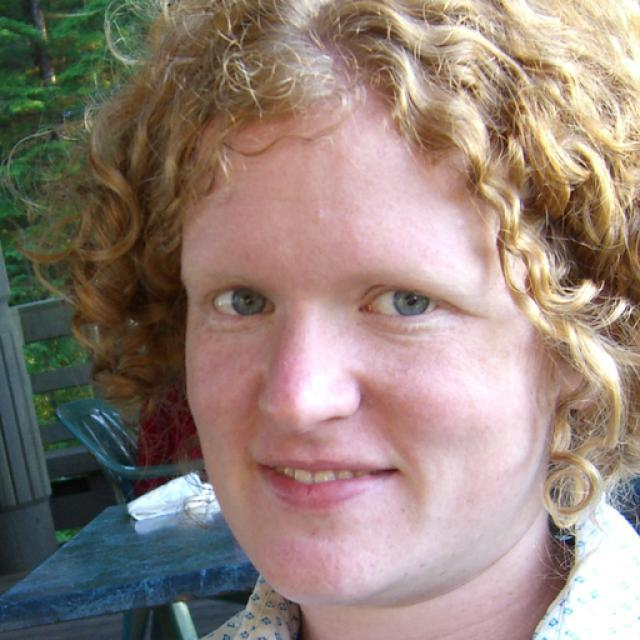happy: (186, 132, 546, 602)
